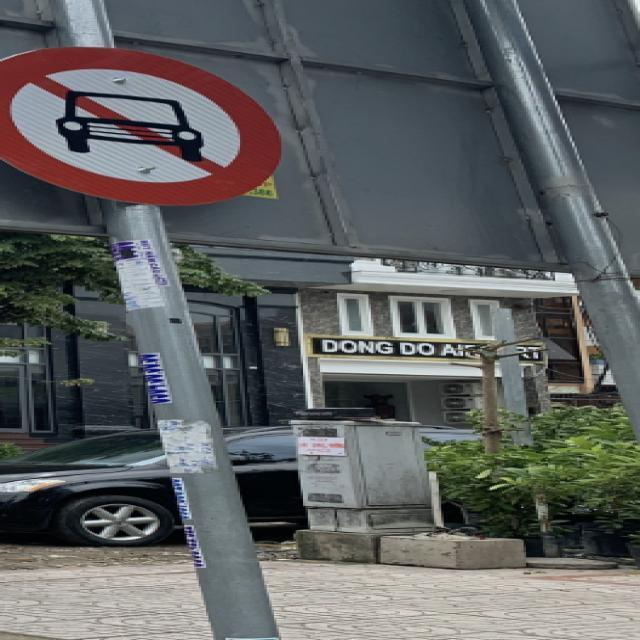103a-cam-oto: (3, 46, 278, 204)
